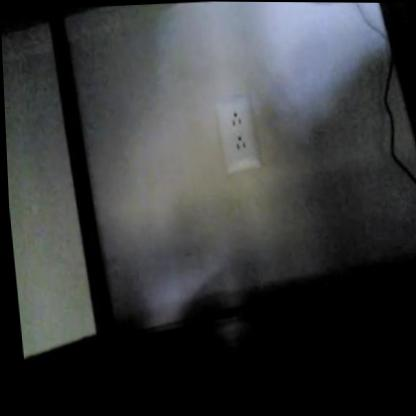OUTLET: (215, 96, 261, 179)
